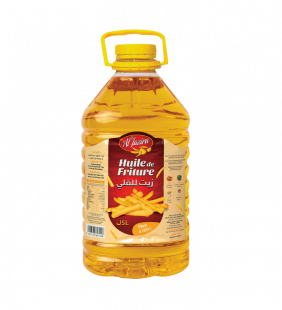AL JAZIRA: (75, 24, 196, 284)
